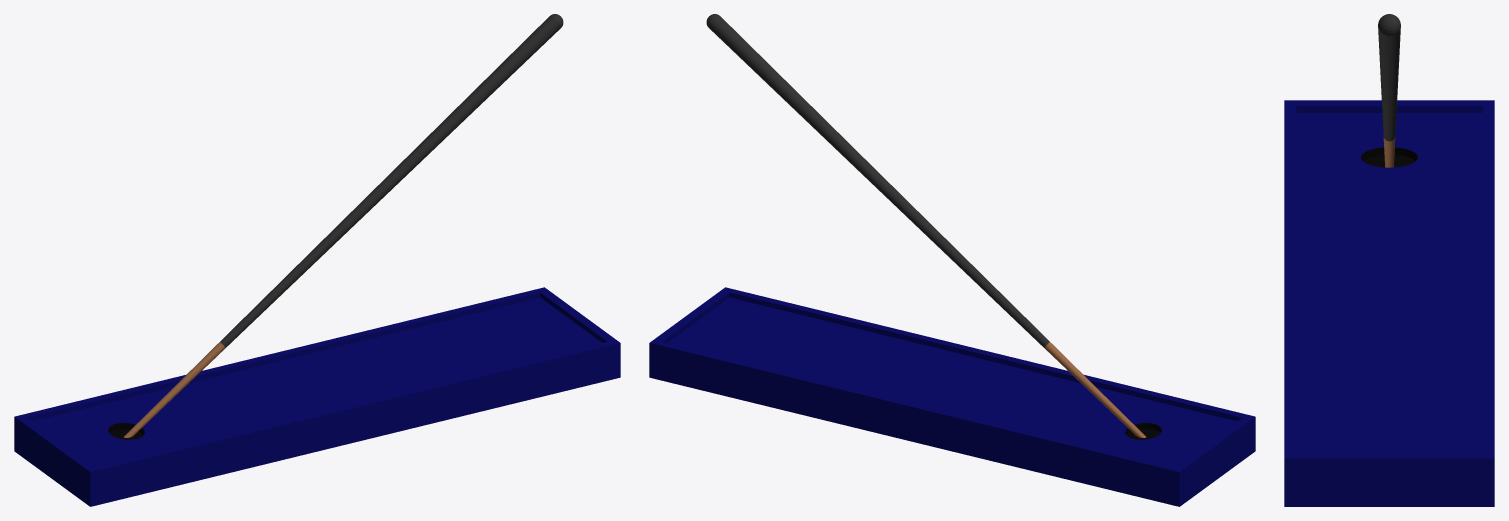
The model's file is Incienso.fbx.
3 renders of one model, left to right at view 1: azimuth 30°, elevation 25°; view 2: azimuth 150°, elevation 25°; view 3: azimuth 270°, elevation 25°, orthographic. The views are drawn at different scales.
Parts seen in each view (by area): view 1: Cube; view 2: Cube; view 3: Cube.
Boxes of the visible parts, bbox=[...] form: Cube: bbox=[14, 14, 620, 506]; Cube: bbox=[649, 14, 1255, 506]; Cube: bbox=[1284, 14, 1494, 506].
Size of the model in its own units: 92.81 by 57.19 by 23.02.
